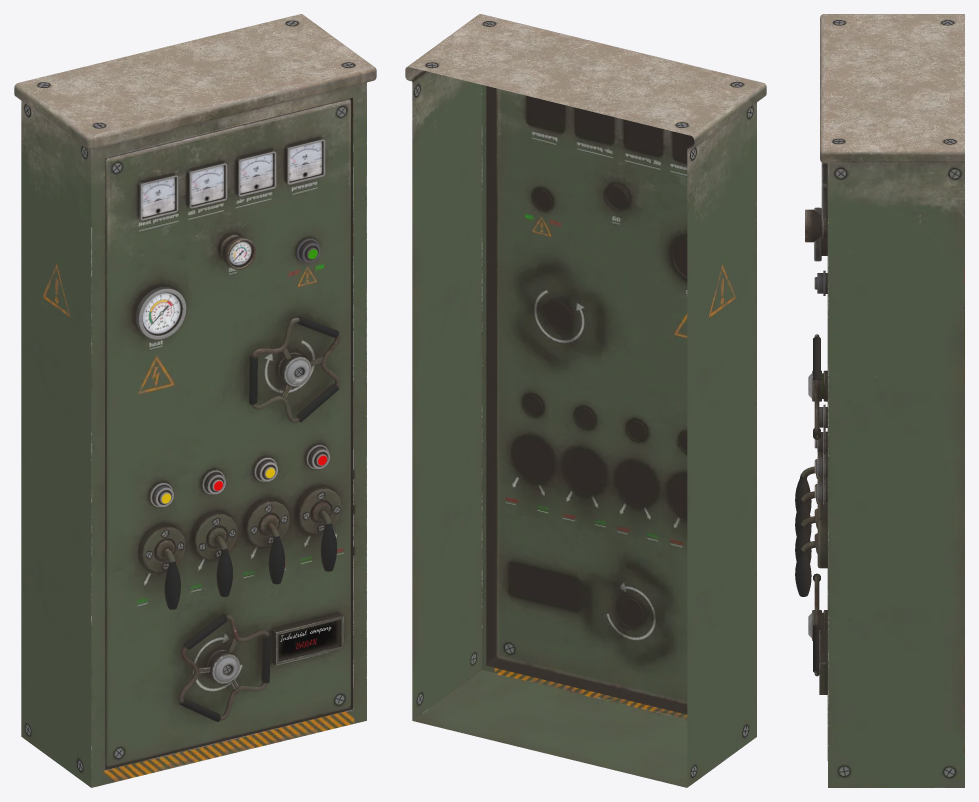
Rendered from industrial_electrical_box-11mb-opt.glb.
3 views of the same model, side by side, from view 1: azimuth 30°, elevation 25°; view 2: azimuth 150°, elevation 25°; view 3: azimuth 270°, elevation 25° (orthographic). The views are drawn at different scales.
Visible parts, largest first — view 1: Null__0; view 2: Null__0; view 3: Null__0.
Part boxes in pixels (left/top/right/bottom): Null__0: left=14, top=14, right=376, bottom=787; Null__0: left=405, top=14, right=766, bottom=787; Null__0: left=795, top=14, right=964, bottom=787.
Size of the model in its own units: 0.9456 by 2.04 by 0.491.
1 material, 1 textured.
